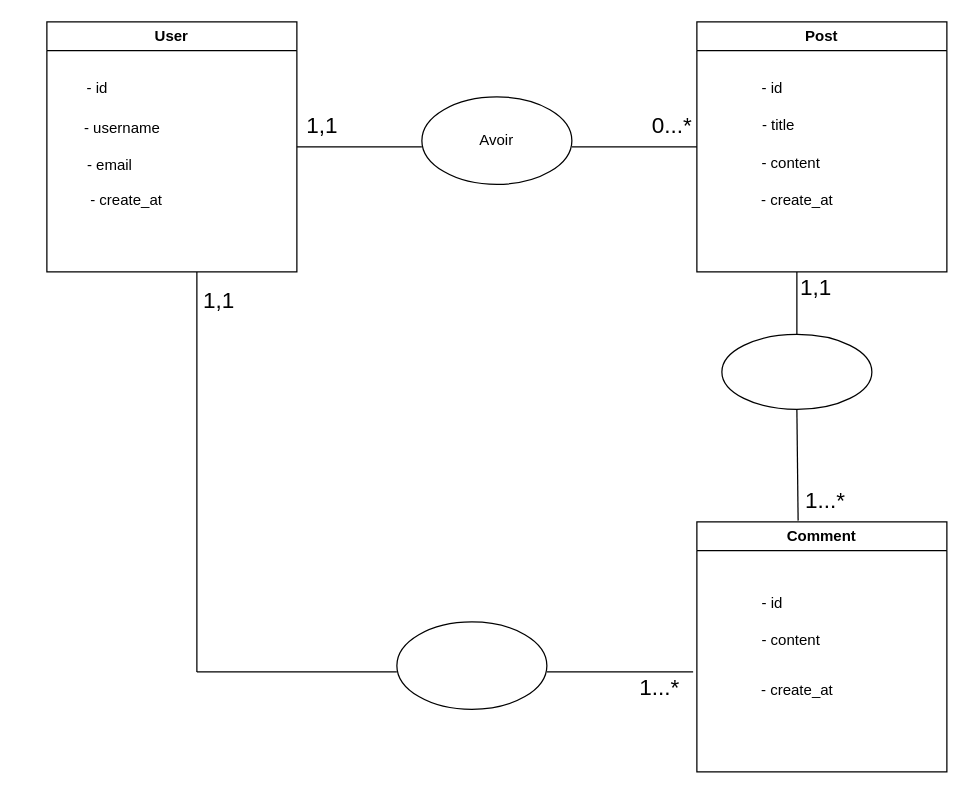
Some shapes in this 969 by 794 pixel diagram are drawn without their labels. The shapes that lost their labels are listed below. From the top down, each one's centre as x and y in pixels, then its label:
At (x=796, y=371): "Posseder".
At (x=471, y=665): "Ecrire".
